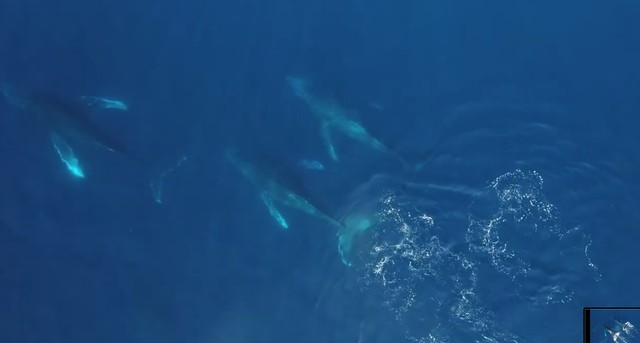whale: (3, 80, 197, 210), (213, 140, 388, 269), (277, 70, 448, 197)
